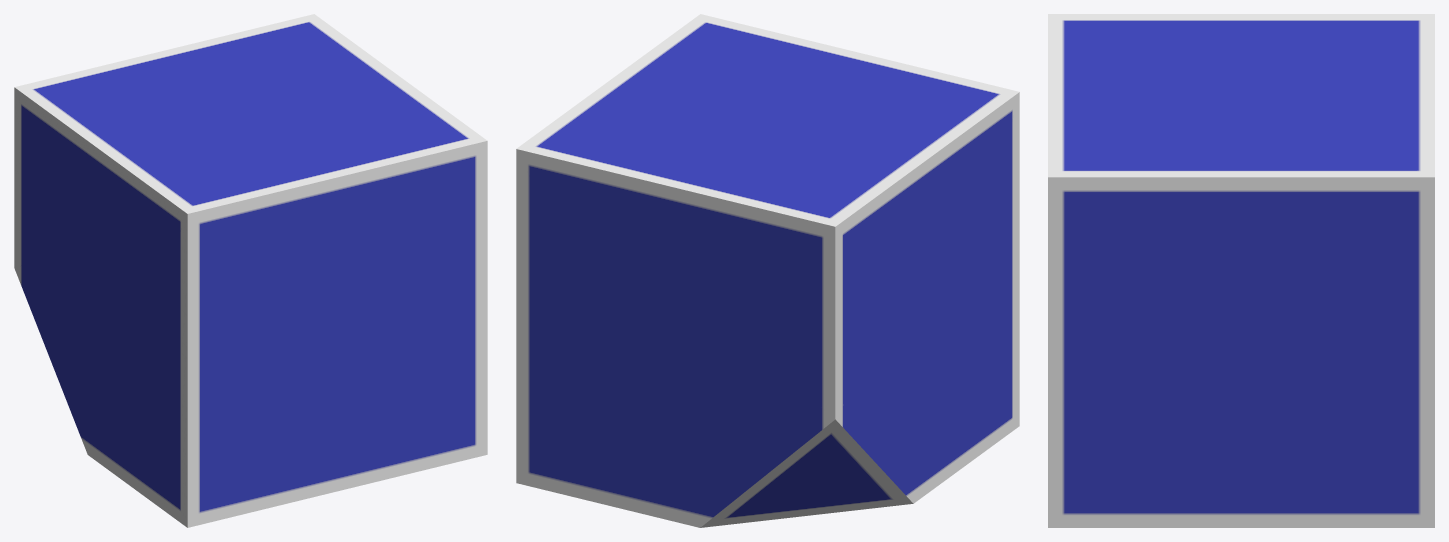
Rendered from puzzle_item.dae.
3 views of the same model, side by side, from view 1: azimuth 30°, elevation 25°; view 2: azimuth 150°, elevation 25°; view 3: azimuth 270°, elevation 25° (orthographic). The views are drawn at different scales.
Visible parts, largest first — view 1: puzzle_item; view 2: puzzle_item; view 3: puzzle_item.
Boxes of the visible parts, x1,y1,x2,y2 form: puzzle_item: (14,14,487,527); puzzle_item: (516,14,1019,527); puzzle_item: (1048,14,1434,527).
Bounding box in the file's own units: 0.2 × 0.2 × 0.2.
Materials: 1 (1 with a texture image).
